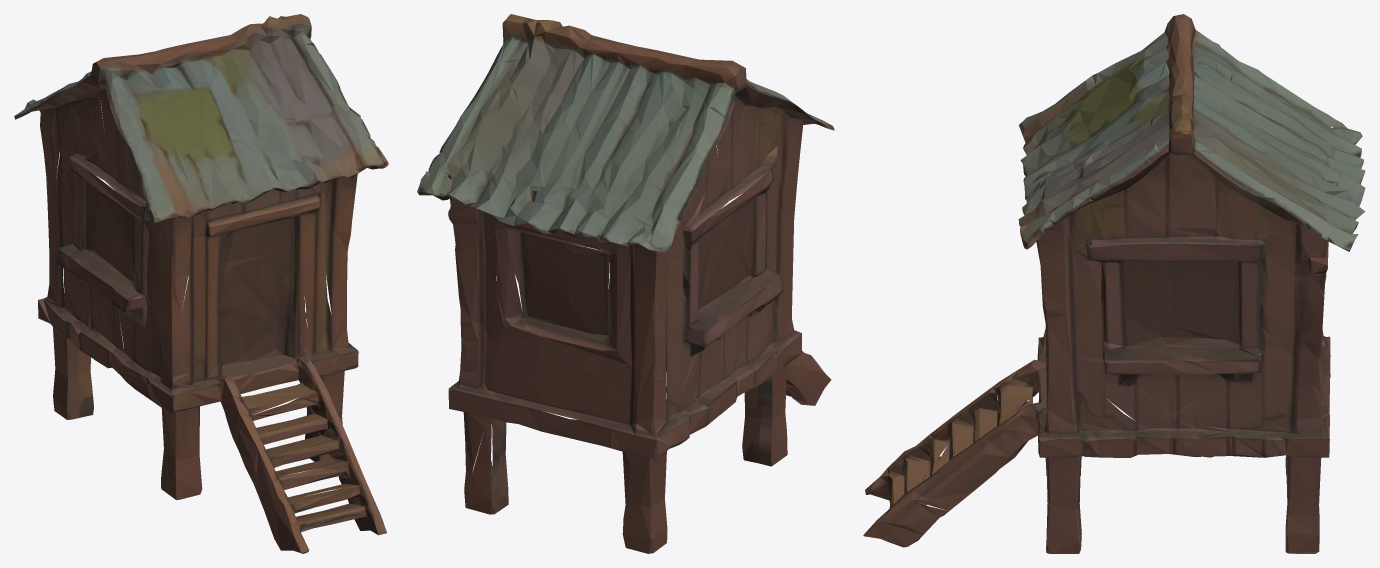
The model's file is booth.glb.
3 views of the same model, side by side, from view 1: azimuth 30°, elevation 25°; view 2: azimuth 150°, elevation 25°; view 3: azimuth 270°, elevation 25° (orthographic). The views are drawn at different scales.
Parts seen in each view (by area): view 1: geometry_0; view 2: geometry_0; view 3: geometry_0.
Part boxes in pixels (bbox=[...]): geometry_0: bbox=[14, 14, 388, 553]; geometry_0: bbox=[417, 14, 834, 553]; geometry_0: bbox=[863, 14, 1365, 553].
Bounding box in the file's own units: 1.05 × 1.76 × 1.75.
1 material, 1 textured.
